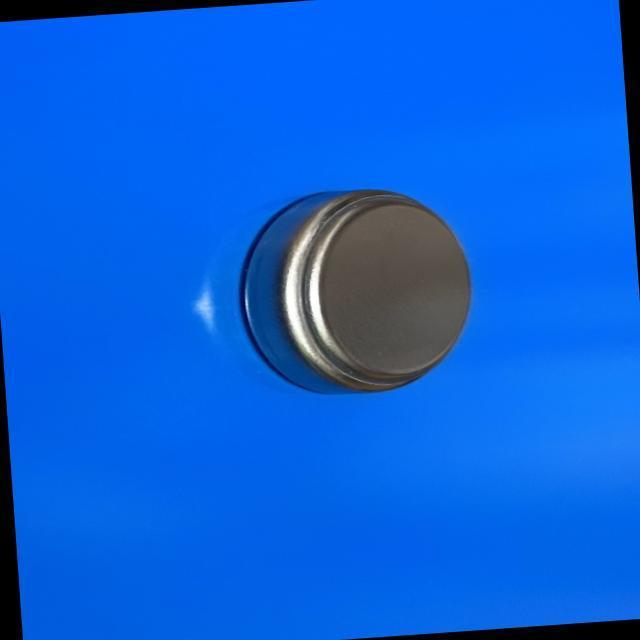COIN: (230, 178, 480, 402)
